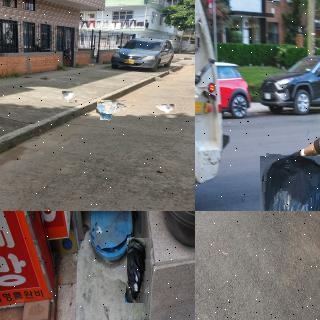Garbage: (257, 154, 320, 211), (126, 238, 151, 303), (97, 100, 127, 115), (154, 103, 176, 114), (62, 91, 75, 102), (100, 113, 111, 121)
